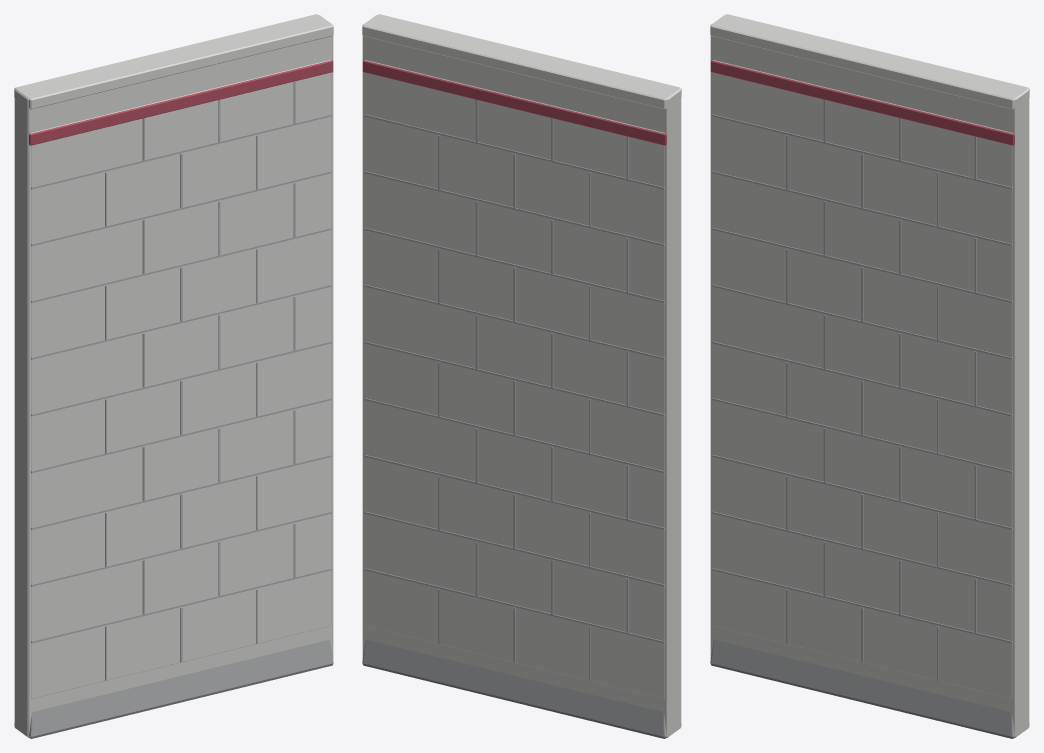
File: butchers-shop-and-deli-counter-tiled-wall-module-5fc5d977__34439.glb
The picture shows the model from 3 angles, left to right: view 1: azimuth 30°, elevation 25°; view 2: azimuth 150°, elevation 25°; view 3: azimuth 330°, elevation 25°; orthographic projection.
Parts seen in each view (by area): view 1: tiled-wall-module; view 2: tiled-wall-module; view 3: tiled-wall-module.
Part boxes in pixels (x1,y1,x2,y2): tiled-wall-module: (14, 14, 333, 738); tiled-wall-module: (362, 14, 681, 738); tiled-wall-module: (710, 14, 1029, 738).
Size of the model in its own units: 1.5 by 3 by 0.146.
